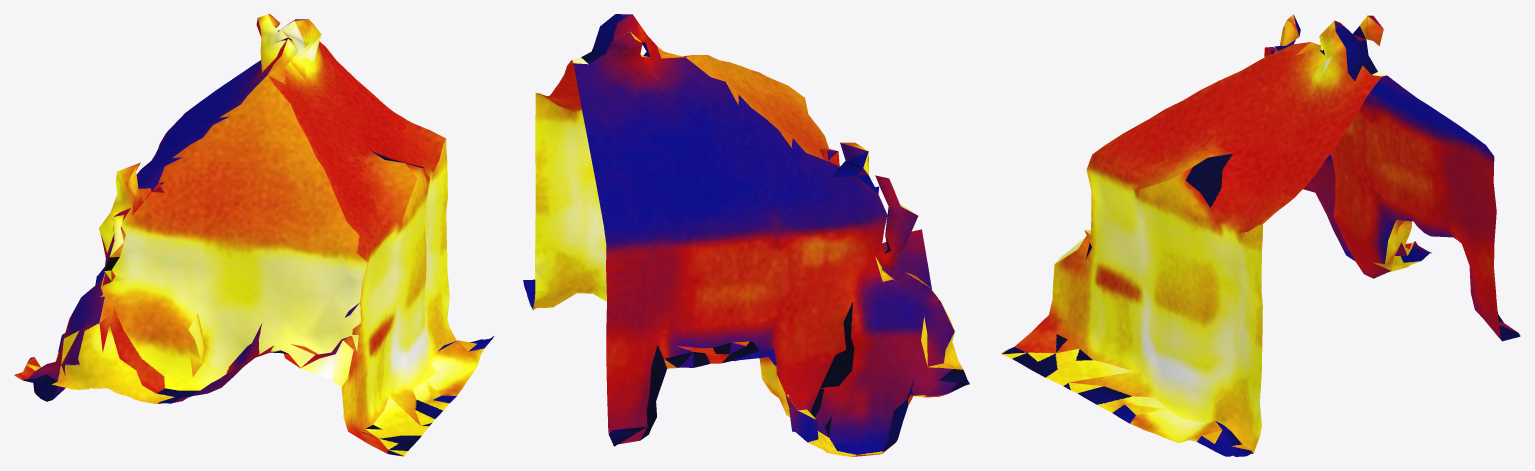
Rendered from property (15).glb.
3 views of the same model, side by side, from view 1: azimuth 30°, elevation 25°; view 2: azimuth 150°, elevation 25°; view 3: azimuth 270°, elevation 25° (orthographic). The views are drawn at different scales.
Parts seen in each view (by area): view 1: ODM; view 2: ODM; view 3: ODM.
Part boxes in pixels (x1,y1,x2,y2): ODM: [14, 14, 493, 456]; ODM: [523, 14, 969, 456]; ODM: [1000, 14, 1520, 456].
Size of the model in its own units: 14.59 by 10.41 by 13.25.
Materials: 1 (1 with a texture image).
